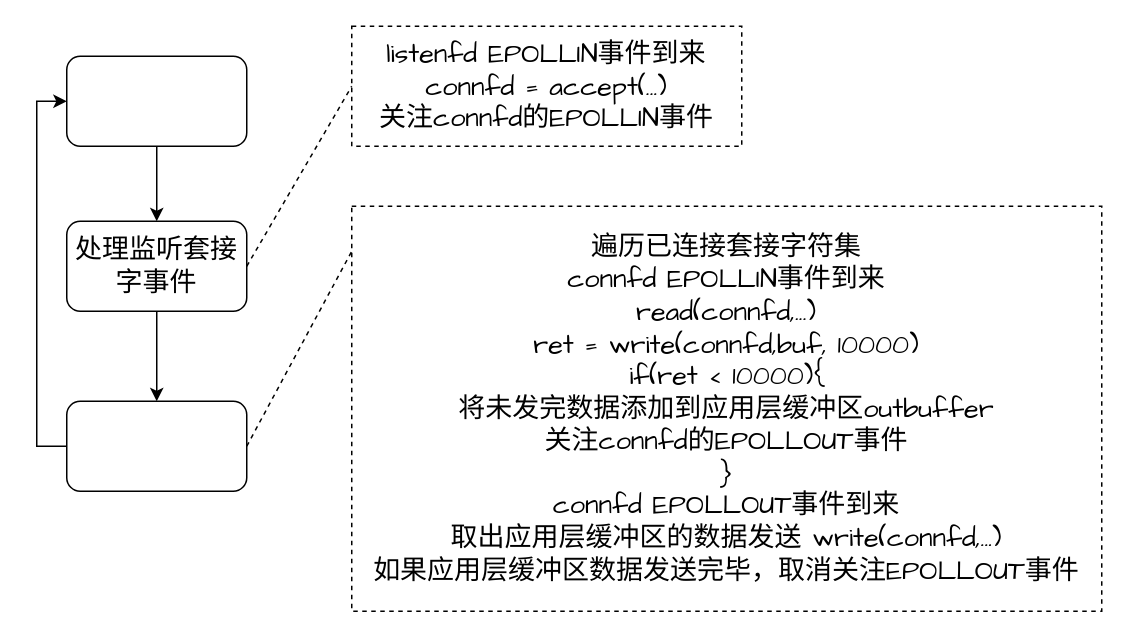
Some shapes in this 1128 by 638 pixel diagram are drawn without their labels. Here are the shapes that lost their labels. From the top down, the centre of each, then its label:
[156,100]: epoll_wait
[156,445]: 处理已连接套接字事件
